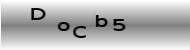5: (112, 17, 126, 31)
C: (71, 25, 87, 38)
D: (30, 7, 46, 21)
b: (95, 13, 107, 27)
o: (56, 21, 71, 31)
